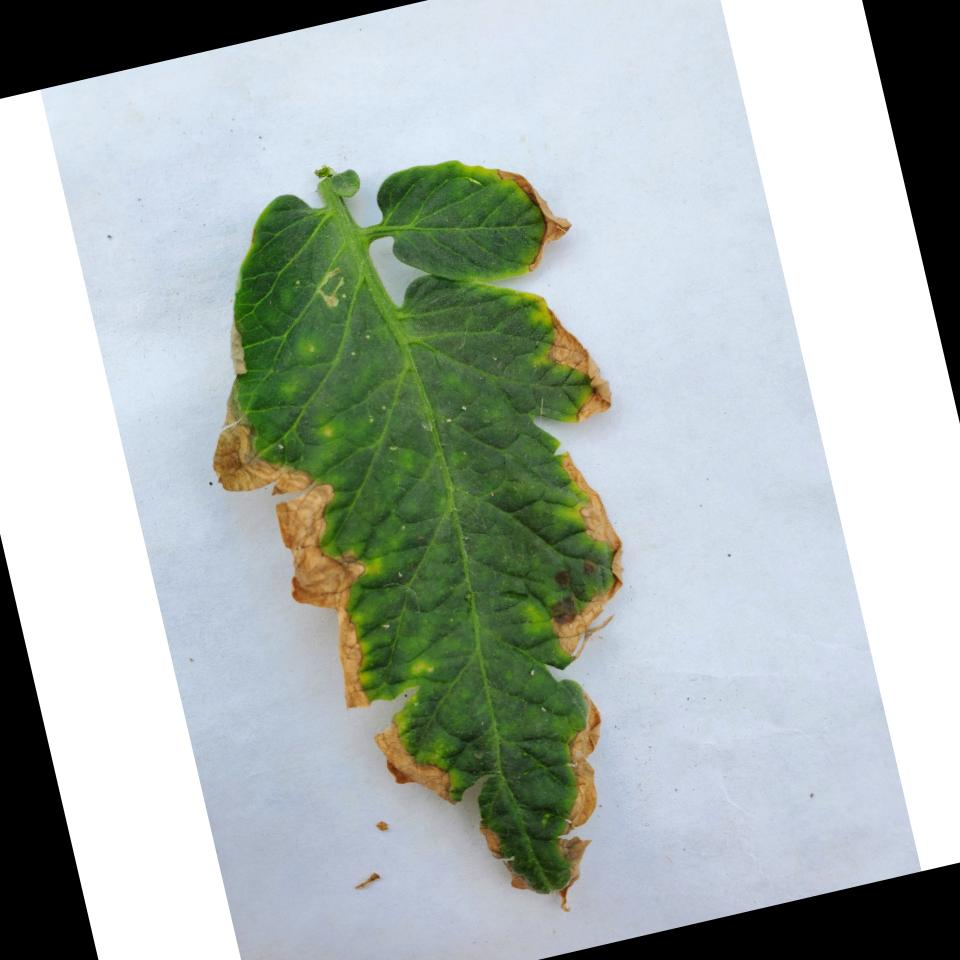tomato_bacterial_blight: (165, 77, 725, 960)
